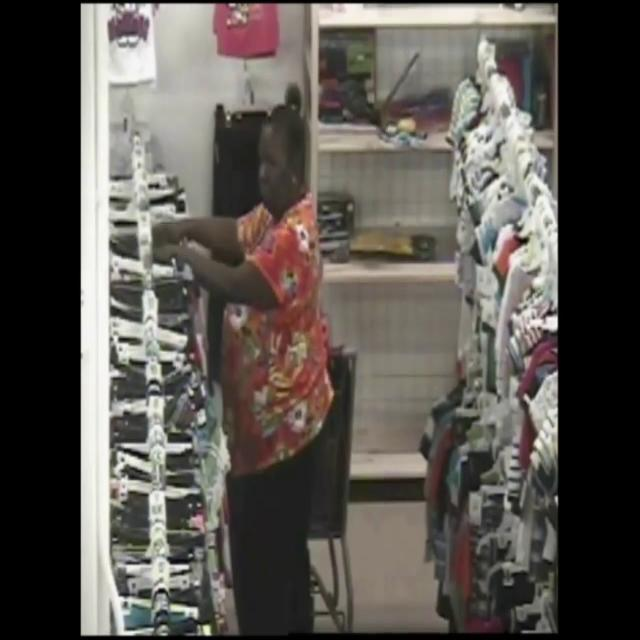normal: (143, 65, 370, 640)
